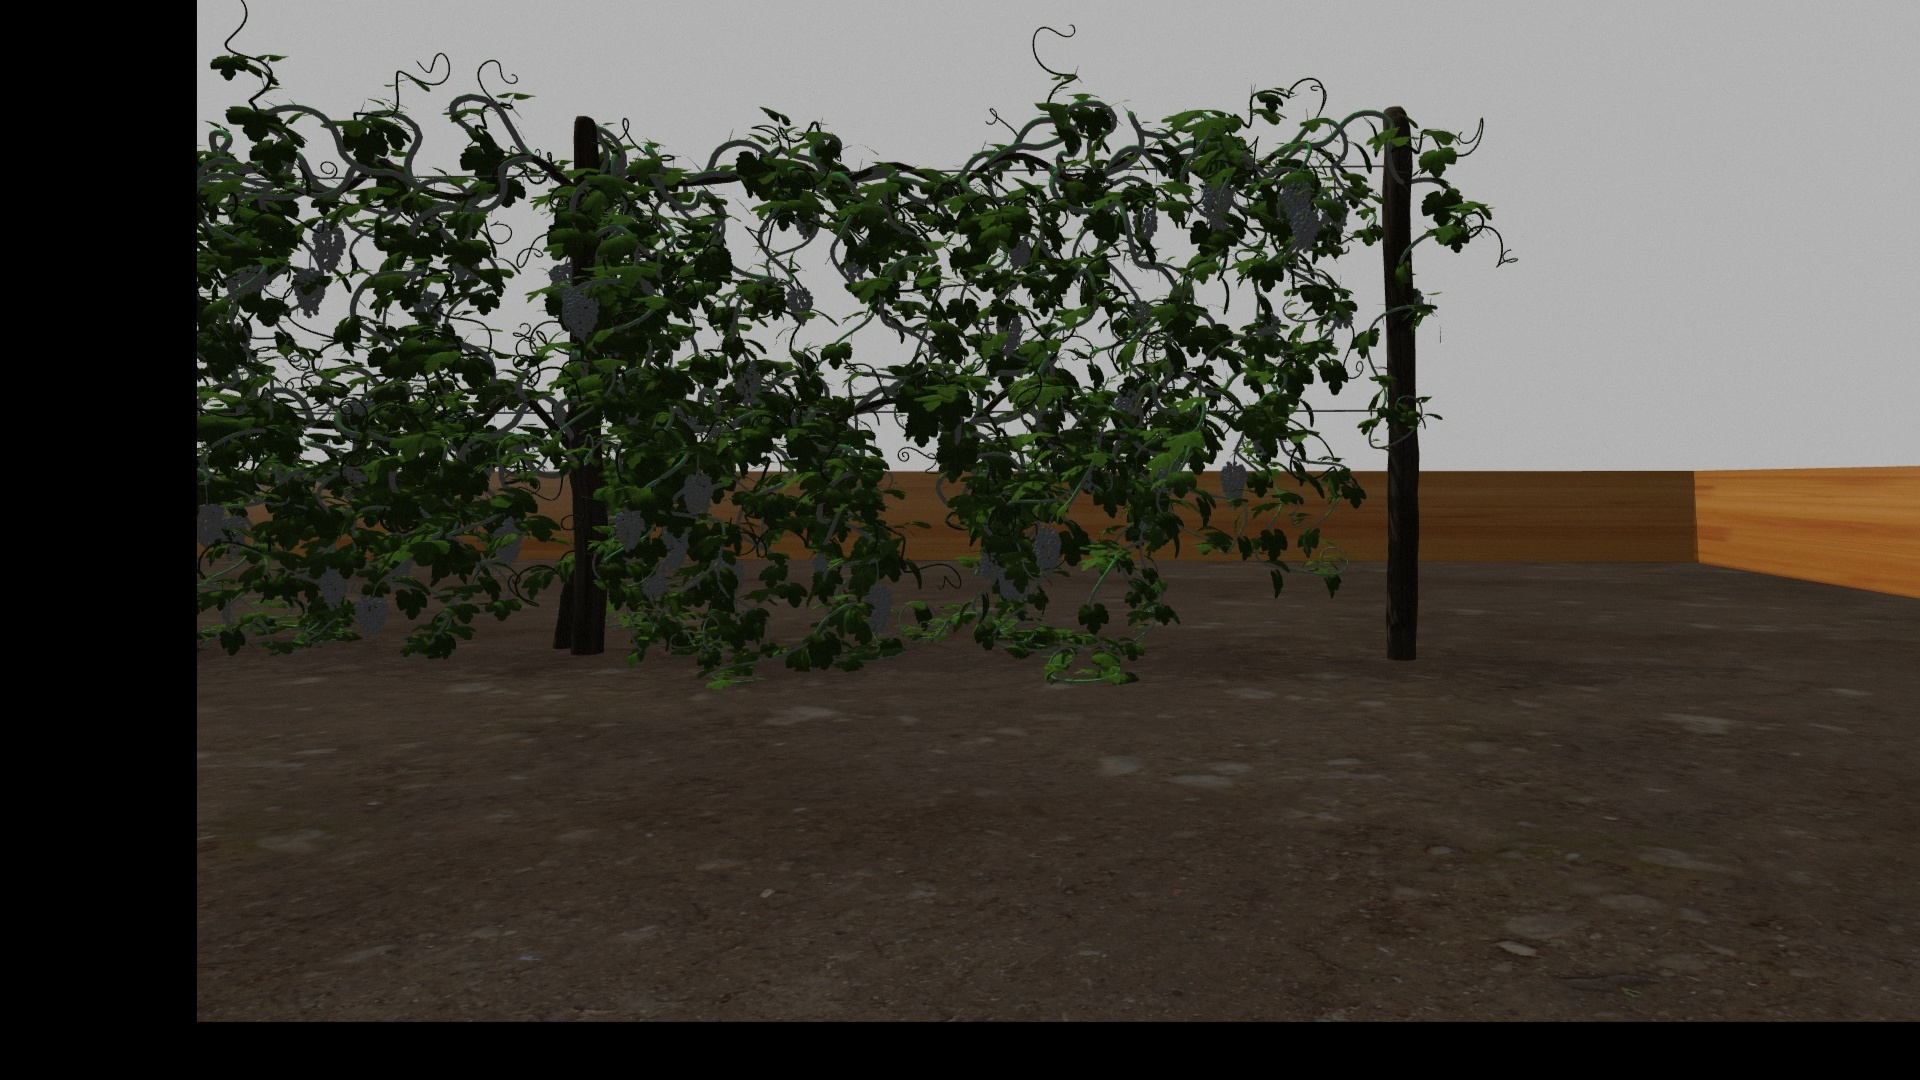grape: (560, 289, 600, 339), (291, 270, 331, 316), (311, 220, 345, 273), (1200, 175, 1232, 228), (353, 593, 389, 640), (862, 582, 893, 636), (1031, 525, 1062, 578), (316, 568, 349, 612), (493, 518, 524, 564), (613, 508, 644, 553), (661, 526, 688, 574), (225, 264, 266, 295), (733, 360, 762, 404), (1290, 208, 1319, 251), (1279, 175, 1311, 214), (683, 473, 713, 513), (1218, 462, 1246, 504), (785, 285, 814, 320), (200, 502, 224, 546), (997, 571, 1029, 603), (223, 517, 247, 559), (1131, 208, 1156, 243), (1116, 388, 1143, 417), (977, 551, 1000, 582), (1009, 241, 1031, 269), (640, 575, 665, 595)
